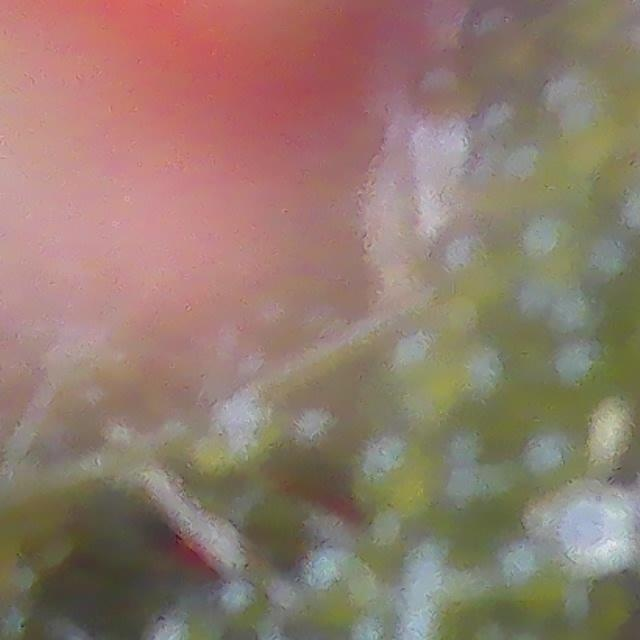SeaGrape: (550, 491, 624, 566)
